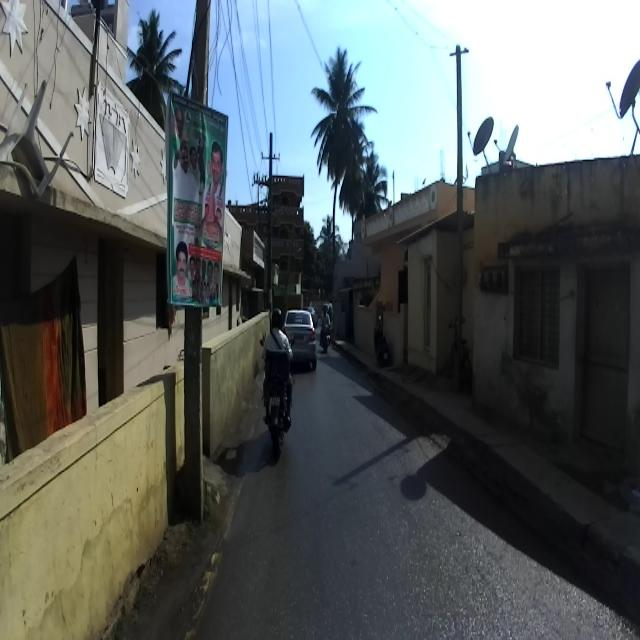car: (278, 308, 317, 370)
motorcycle: (259, 339, 296, 457)
scooter: (373, 314, 390, 366)
